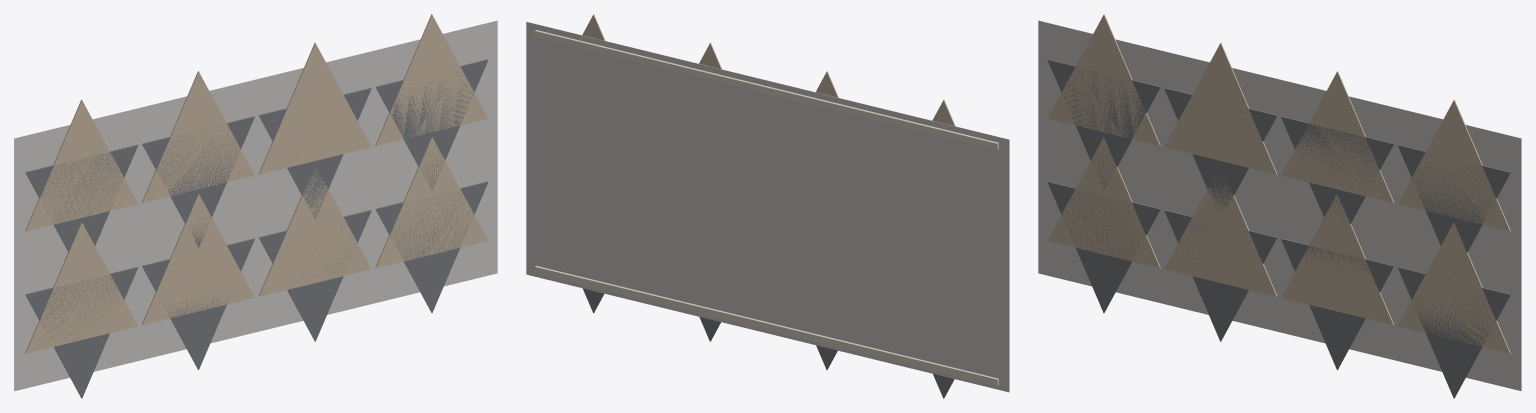
File: tess_lumen_flat.glb
The picture shows the model from 3 angles, left to right: view 1: azimuth 30°, elevation 25°; view 2: azimuth 150°, elevation 25°; view 3: azimuth 330°, elevation 25°; orthographic projection.
Parts seen in each view (by area): view 1: geometry_0, geometry_13, geometry_9, geometry_1, geometry_7, geometry_3, geometry_11, geometry_5, geometry_15, geometry_16, geometry_12, geometry_8 (+5 smaller); view 2: geometry_0, geometry_17, geometry_18; view 3: geometry_0, geometry_11, geometry_1, geometry_15, geometry_5, geometry_13, geometry_9, geometry_7, geometry_3, geometry_10, geometry_8, geometry_2 (+5 smaller).
Part boxes in pixels (x1,y1,x2,y2): geometry_0: (14, 20, 497, 391); geometry_13: (258, 42, 371, 174); geometry_9: (25, 99, 137, 231); geometry_1: (25, 222, 137, 353); geometry_7: (375, 137, 488, 268); geometry_3: (142, 194, 254, 325); geometry_11: (142, 71, 254, 202); geometry_5: (258, 167, 371, 296); geometry_15: (375, 14, 488, 145); geometry_16: (375, 59, 488, 189); geometry_12: (142, 116, 254, 247); geometry_8: (375, 181, 488, 313); geometry_0: (526, 21, 1009, 392); geometry_17: (534, 30, 998, 149); geometry_18: (534, 266, 998, 385); geometry_0: (1038, 20, 1521, 391); geometry_11: (1164, 42, 1277, 174); geometry_1: (1047, 137, 1160, 268); geometry_15: (1398, 99, 1510, 231); geometry_5: (1281, 194, 1393, 325); geometry_13: (1281, 71, 1393, 202); geometry_9: (1047, 14, 1160, 145); geometry_7: (1398, 222, 1510, 353); geometry_3: (1164, 177, 1277, 296); geometry_10: (1047, 59, 1160, 189); geometry_8: (1397, 267, 1510, 398); geometry_2: (1047, 181, 1160, 313).
Size of the model in its own units: 1.2 by 0.71 by 0.013.
